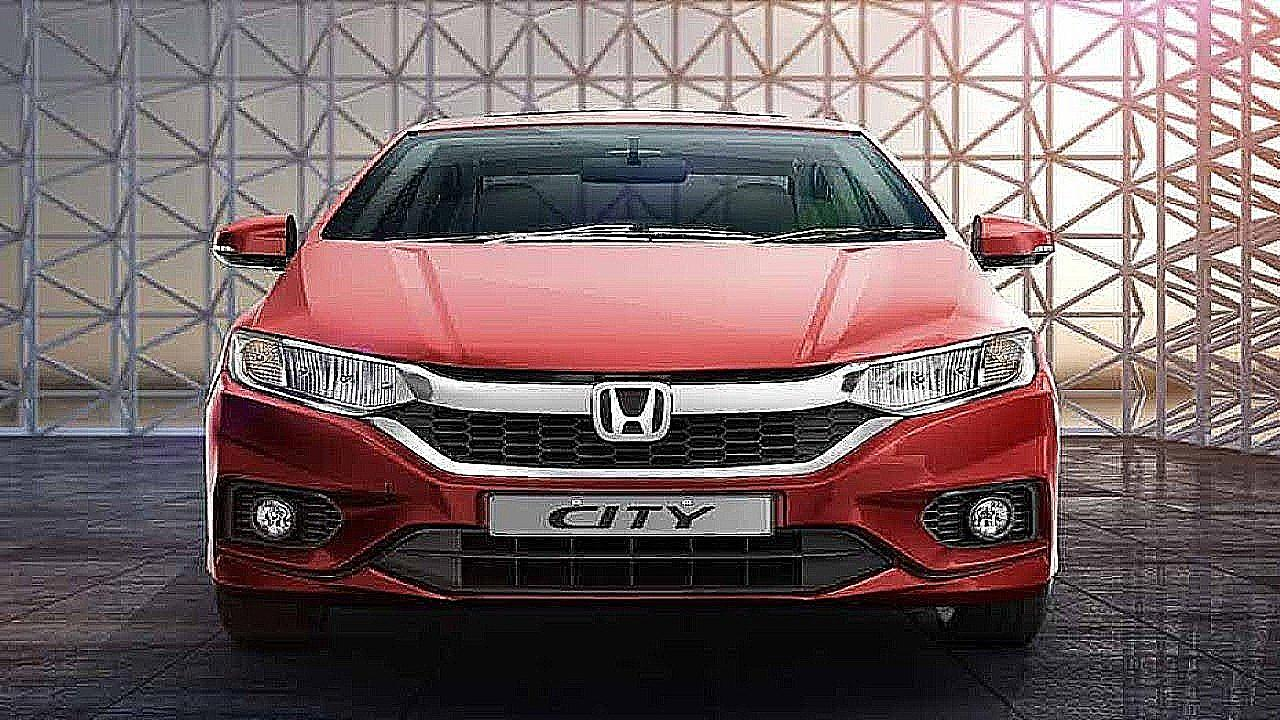Car hood: (254, 236, 1039, 386)
Front bumper: (178, 410, 1083, 613)
Headlight - -L-: (832, 322, 1057, 424)
Headlight - -R-: (214, 320, 428, 426)
Side mirror - -L-: (960, 204, 1063, 282)
Side mirror - -R-: (194, 204, 304, 280)
